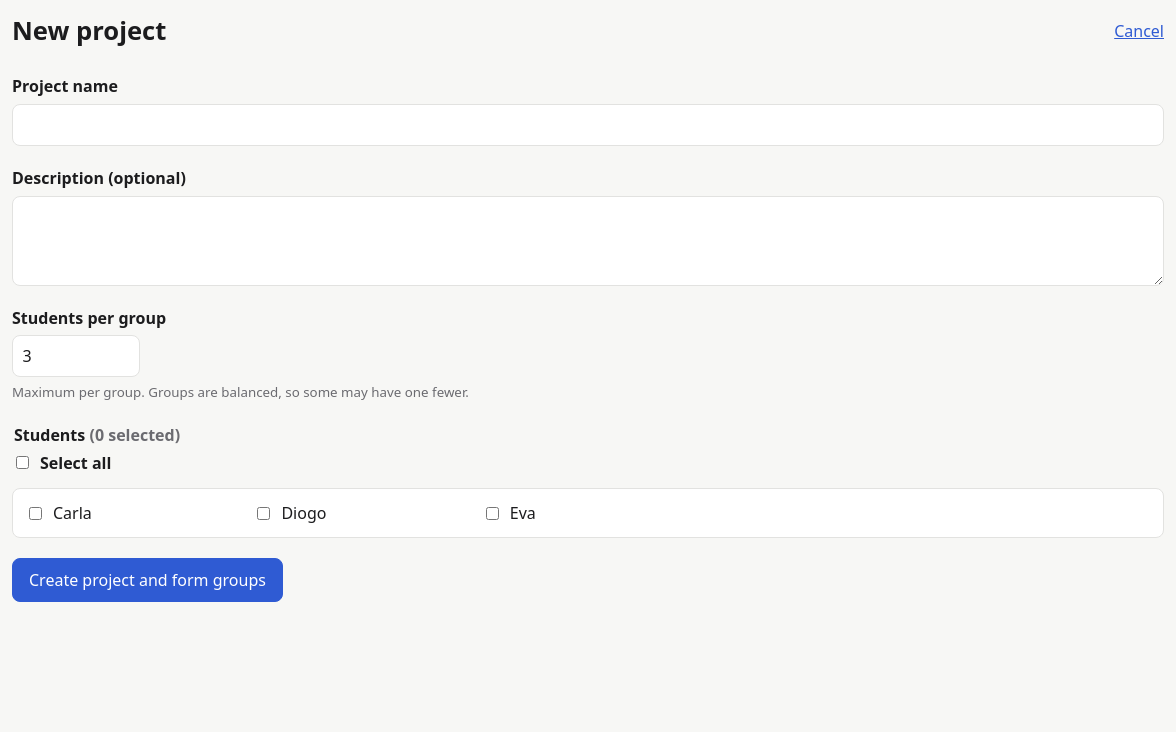
Scenario: CreateProjectPage › shows validation errors and does not submit an incomplete form
Expected: the text "Carla" is shown, 29,502 -> 92,524
Click the button "Create project and form groups": (147, 580) 12,558 -> 283,602
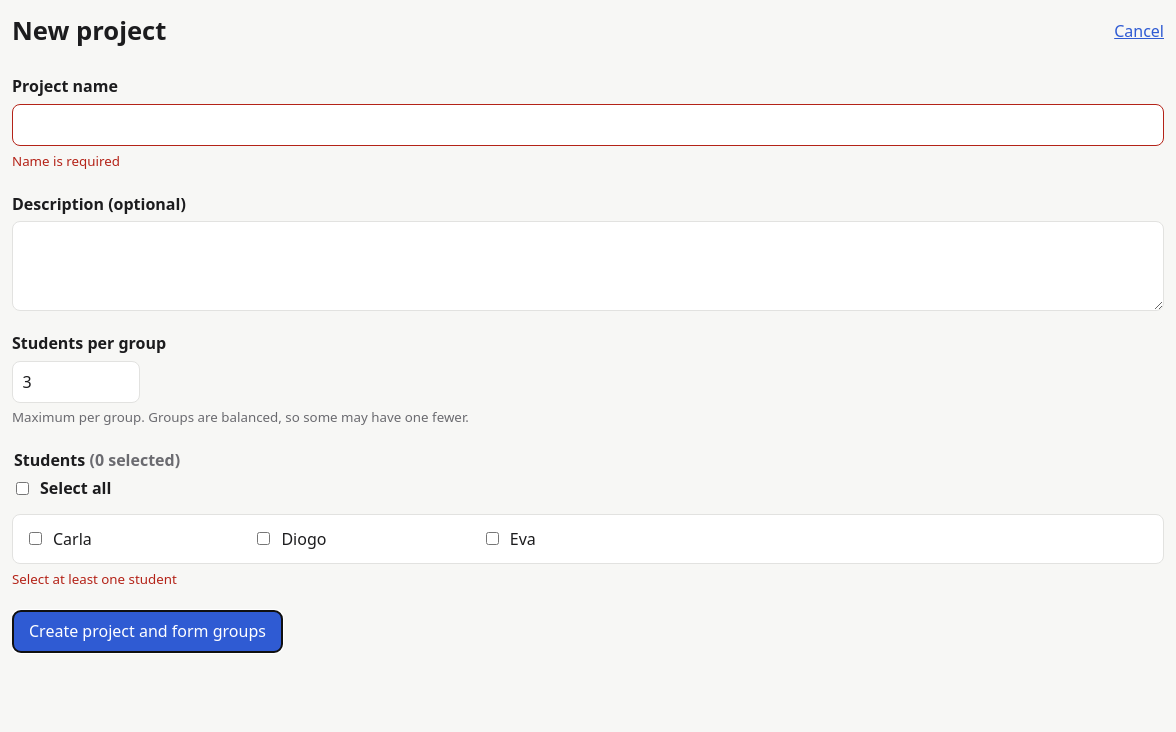
Now the text "Name is required" is shown, box 12,152 -> 120,170
Now the text "Select at least one student" is shown, box 12,570 -> 177,588
